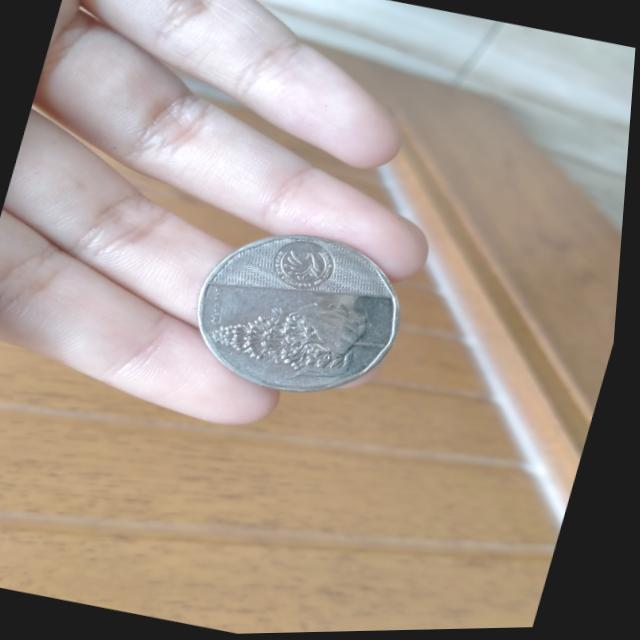10_New_Back: (194, 272, 406, 401)
